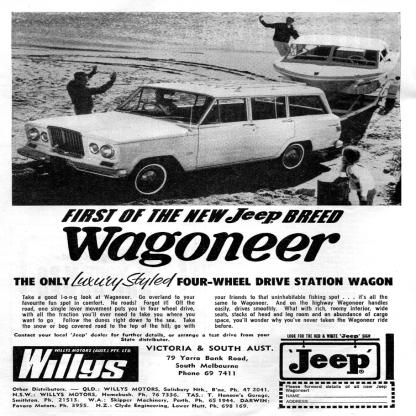Car: (21, 86, 348, 200)
